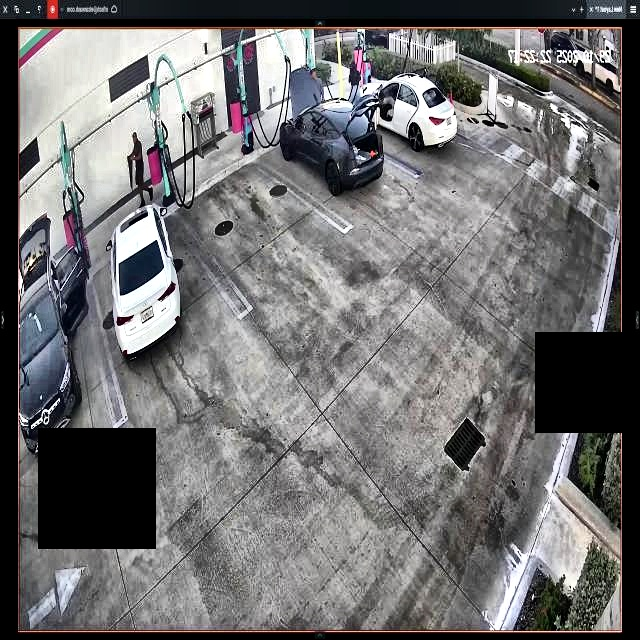Car: (277, 70, 382, 207), (110, 196, 179, 363), (358, 74, 459, 148)
